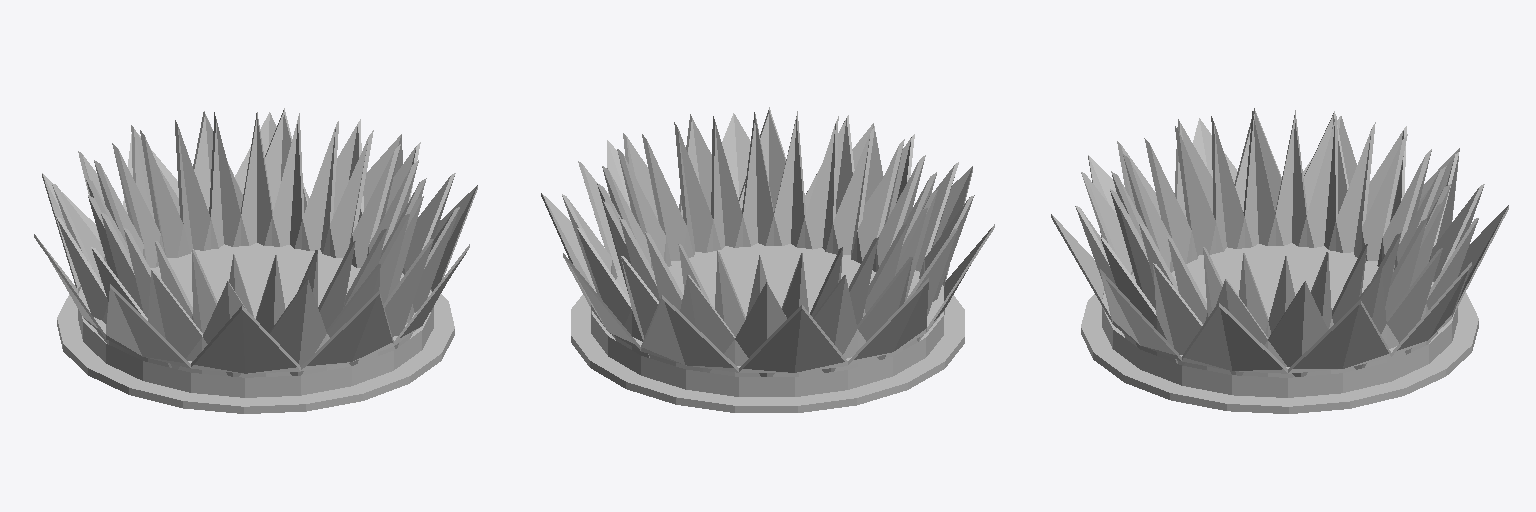
Rendered from portal_abrir_000027.obj.
3 renders of one model, left to right at view 1: azimuth 30°, elevation 25°; view 2: azimuth 150°, elevation 25°; view 3: azimuth 270°, elevation 25°, orthographic.
Visible parts, largest first — view 1: pCylinder1, Cylinder.001, Cylinder; view 2: pCylinder1, Cylinder.001, Cylinder; view 3: pCylinder1, Cylinder.001, Cylinder.
Part boxes in pixels (bbox=[...]): pCylinder1: bbox=[34, 112, 477, 413]; Cylinder.001: bbox=[85, 112, 426, 333]; Cylinder: bbox=[52, 108, 459, 377]; pCylinder1: bbox=[541, 113, 994, 412]; Cylinder.001: bbox=[597, 111, 937, 336]; Cylinder: bbox=[562, 107, 974, 376]; pCylinder1: bbox=[1051, 116, 1508, 413]; Cylinder.001: bbox=[1110, 110, 1450, 338]; Cylinder: bbox=[1075, 108, 1484, 377].
Bounding box in the file's own units: 4.94 × 1.83 × 5.12.